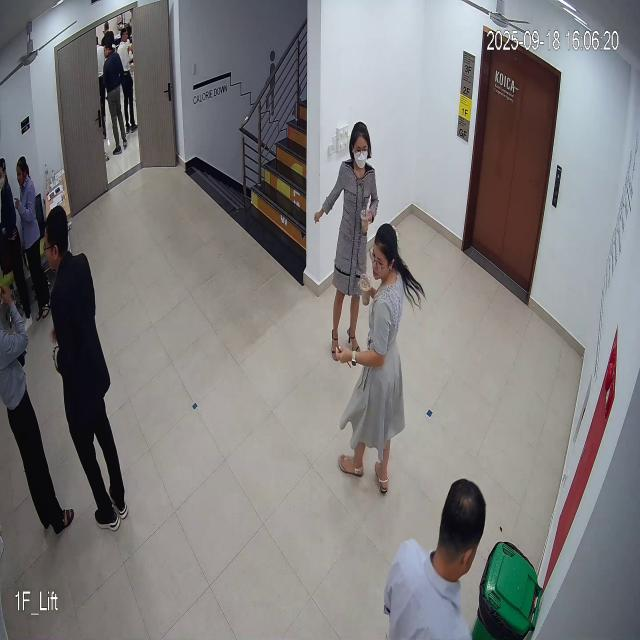face: (372, 220, 399, 287), (350, 116, 372, 174)
